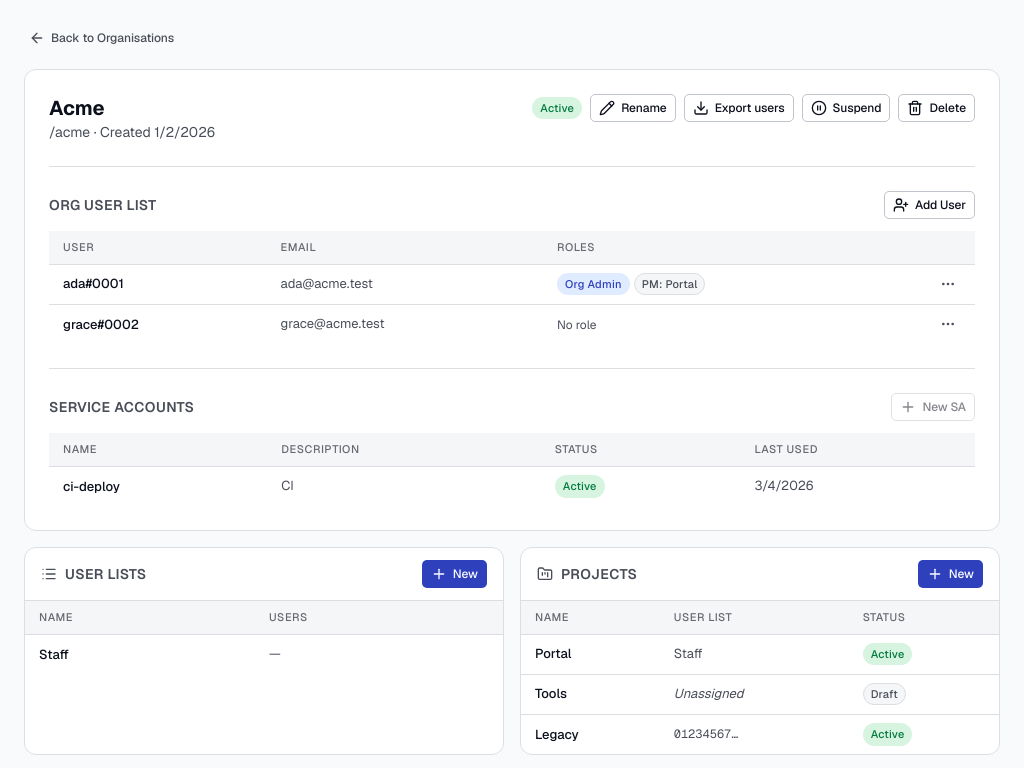
it: adding a user to the admin list › says so, and keeps the form, when the address is taken
Click the button "Add User": (930, 205) [884,191,975,219]
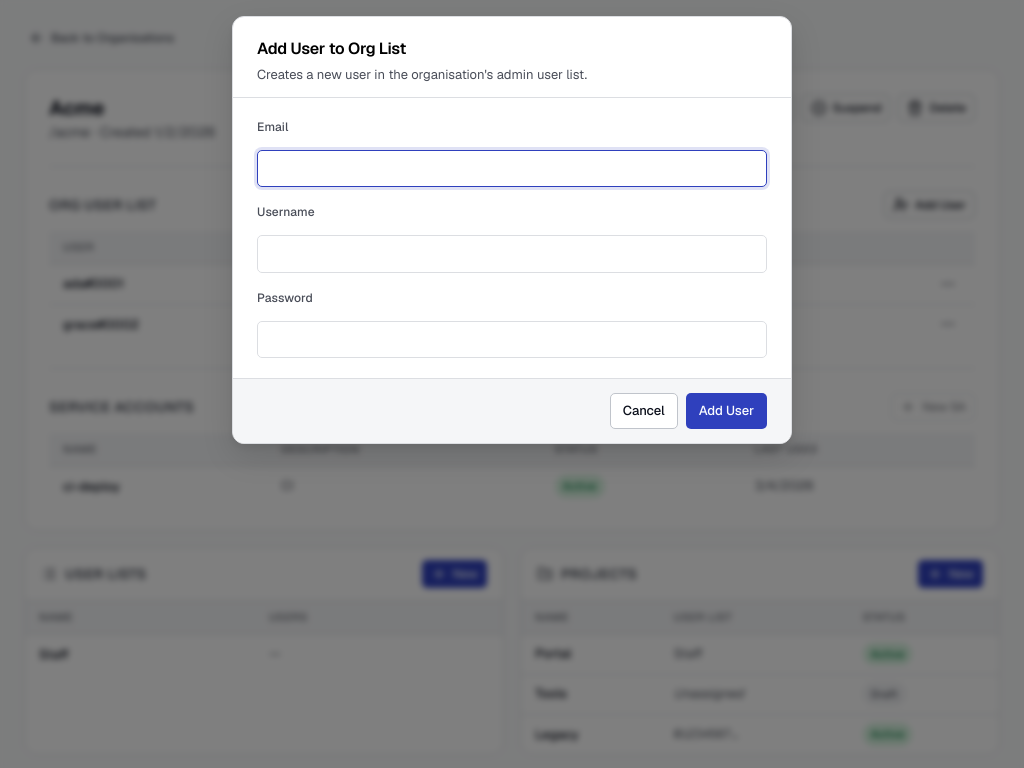
In the field labelled "Email": (512, 168) [257,150,767,187], type "ada@acme.test"
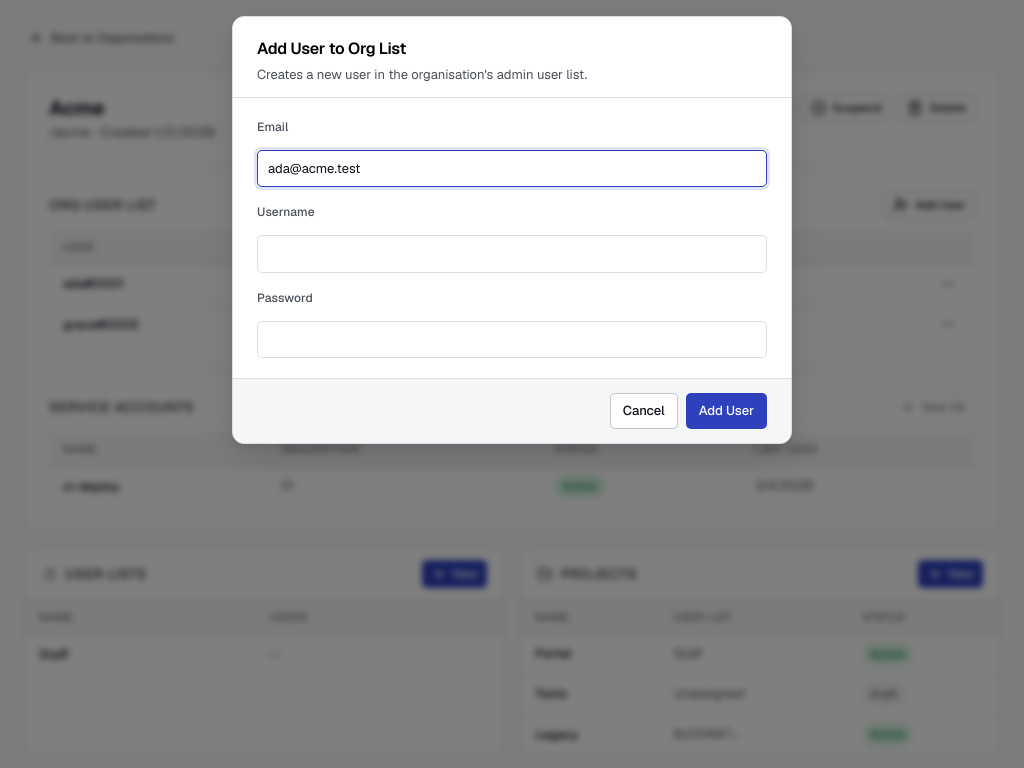
In the field labelled "Username": (512, 254) [257,235,767,272], type "ada2"
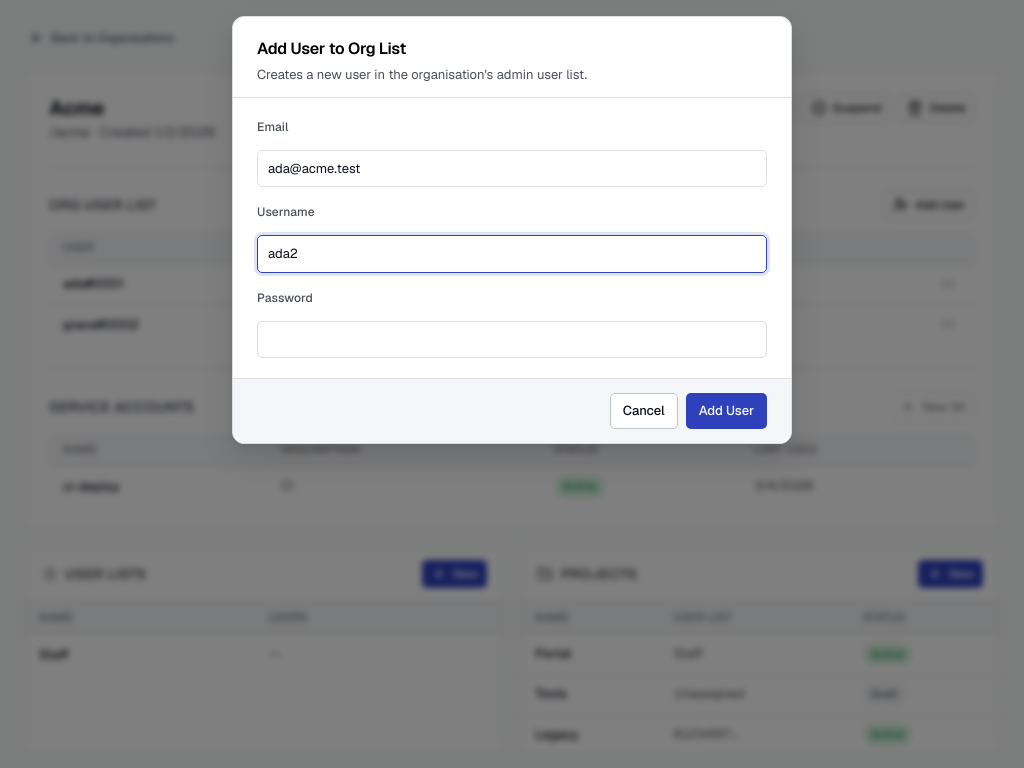
In the password field labelled "Password": (512, 339) [257,320,767,358], type "hunter2hunter2"
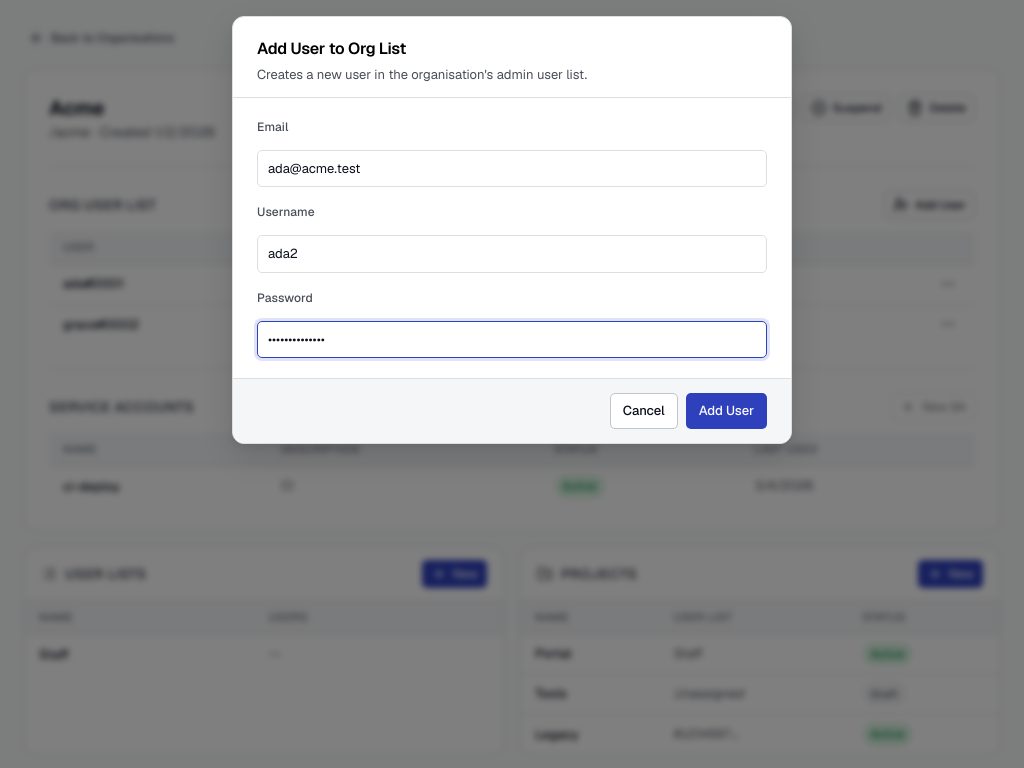
Click the button "Add User": (726, 411) [686,393,767,428]
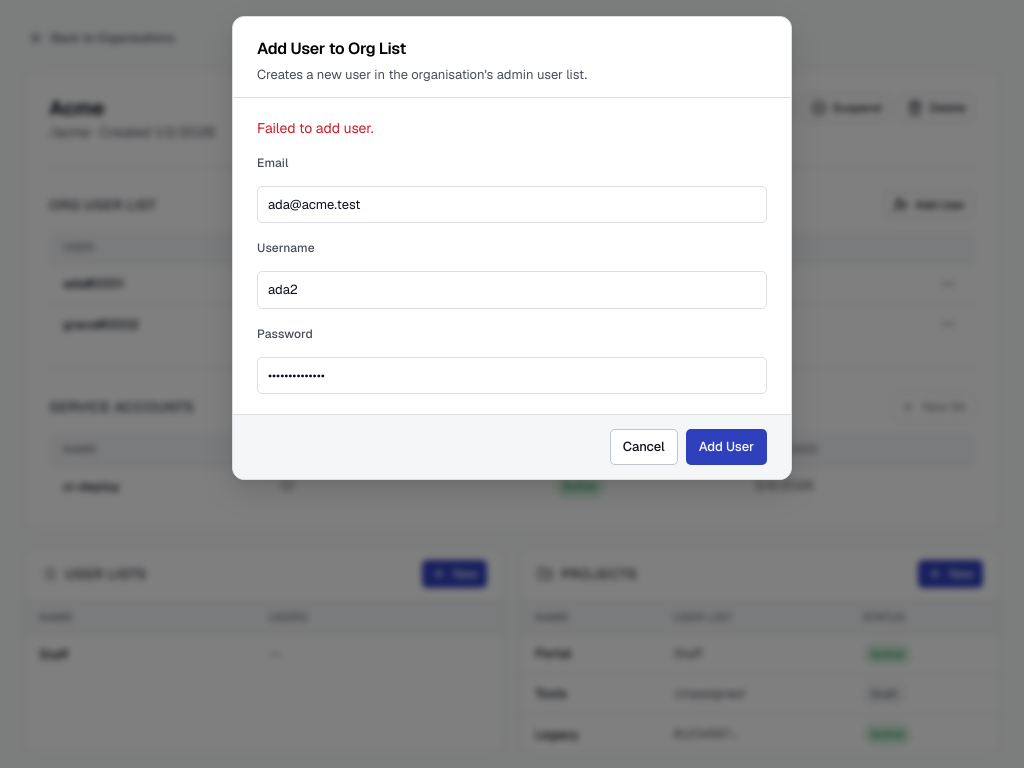
Expected: the text "Failed to add user." is shown, [257,118,374,136]
